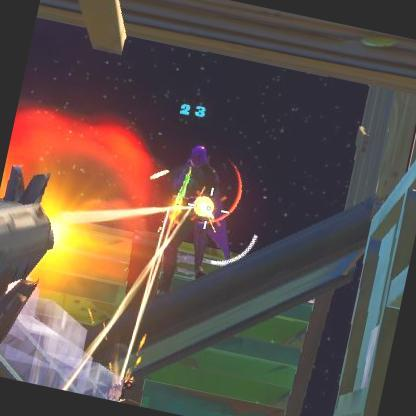person: (156, 141, 242, 286)
